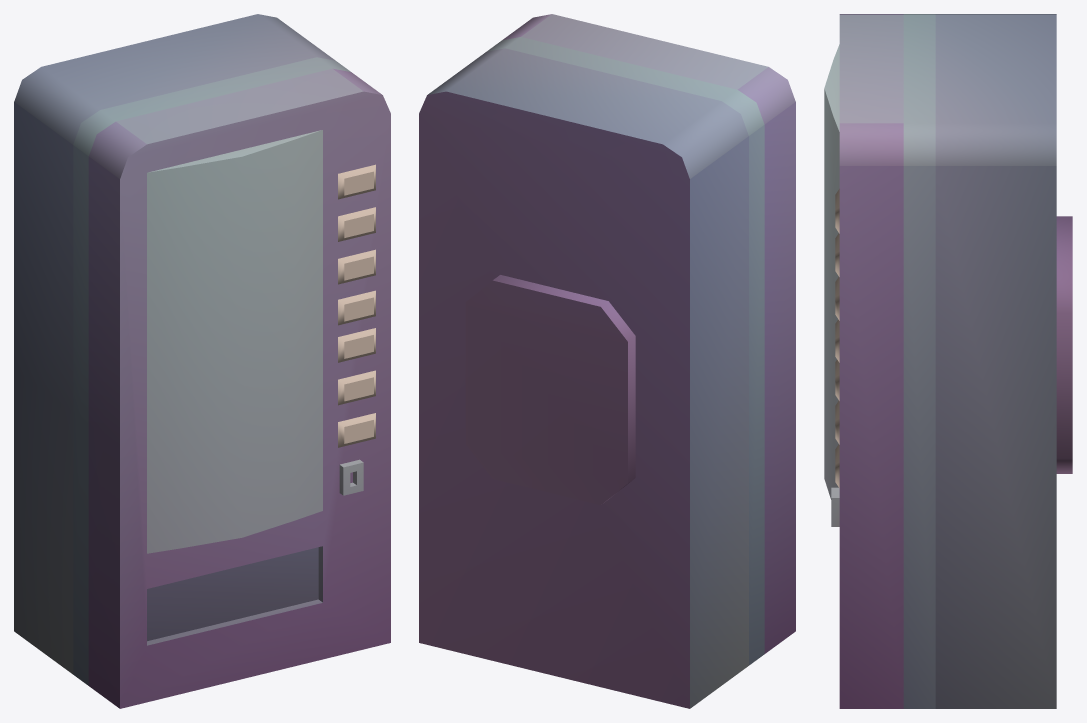
Rendered from vending-machine.glb.
3 renders of one model, left to right at view 1: azimuth 30°, elevation 25°; view 2: azimuth 150°, elevation 25°; view 3: azimuth 270°, elevation 25°, orthographic. The views are drawn at different scales.
Visible parts, largest first — view 1: vending-machine; view 2: vending-machine; view 3: vending-machine.
Boxes of the visible parts, box(x1,y1,x2,y2) form: vending-machine: box(14, 14, 390, 708); vending-machine: box(419, 14, 795, 708); vending-machine: box(824, 14, 1072, 708).
Bounding box in the file's own units: 11.13 × 21.92 × 8.62.
